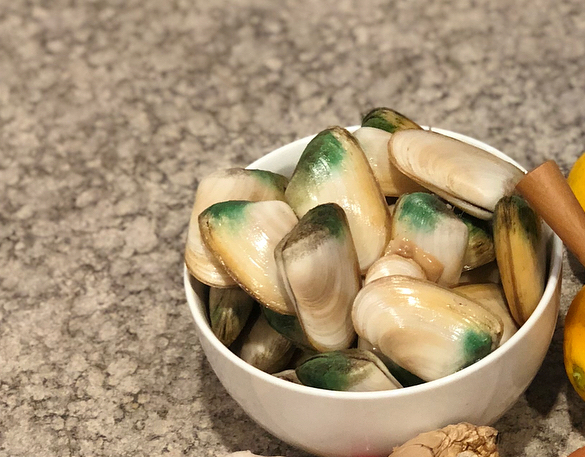tuatua: (349, 273, 502, 381), (283, 123, 392, 272), (275, 201, 361, 356), (196, 198, 302, 323), (383, 121, 515, 219), (492, 190, 550, 332), (389, 188, 468, 289)
